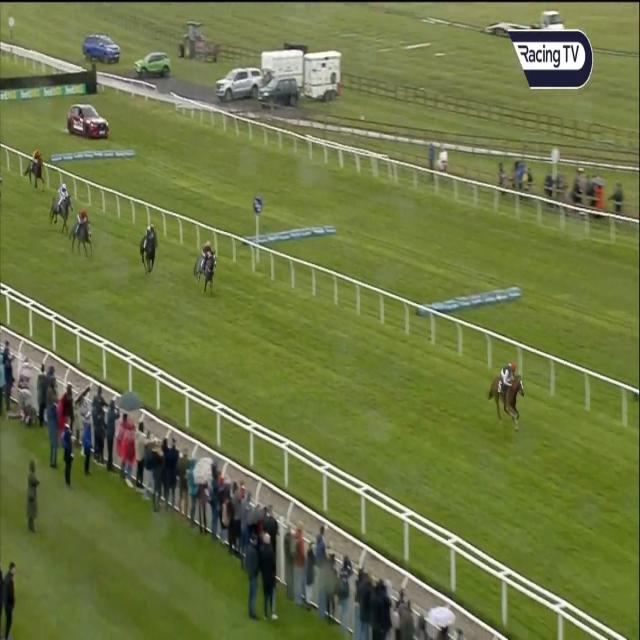horses-racing: (488, 357, 526, 430), (195, 240, 221, 293), (138, 222, 161, 273), (22, 142, 46, 190), (48, 182, 74, 226), (71, 209, 92, 255)
